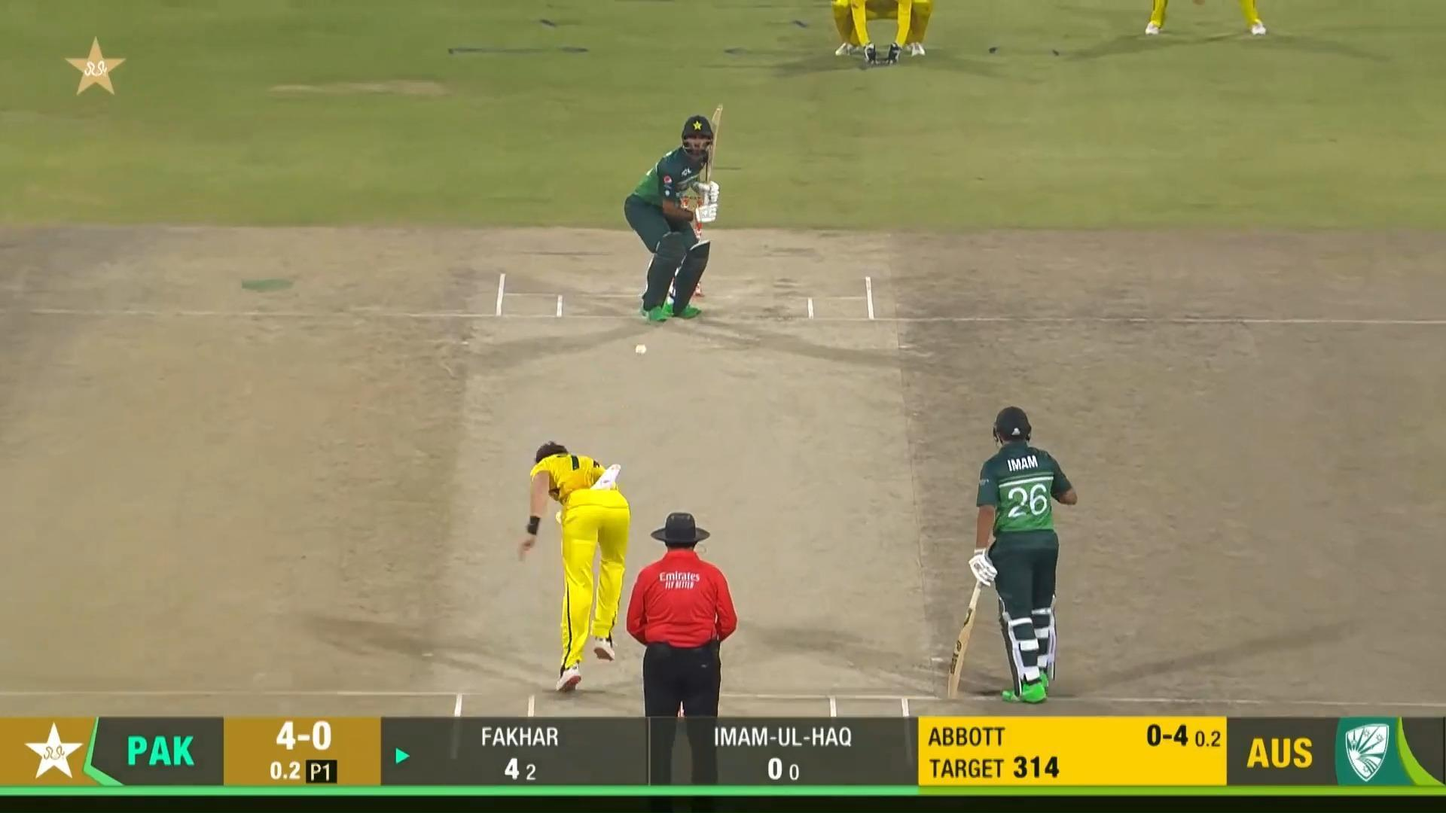BM 1: (624, 102, 725, 323)
BO: (517, 441, 631, 692)
